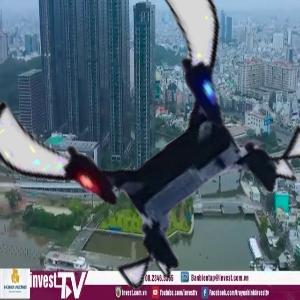drone: (10, 1, 286, 277)
